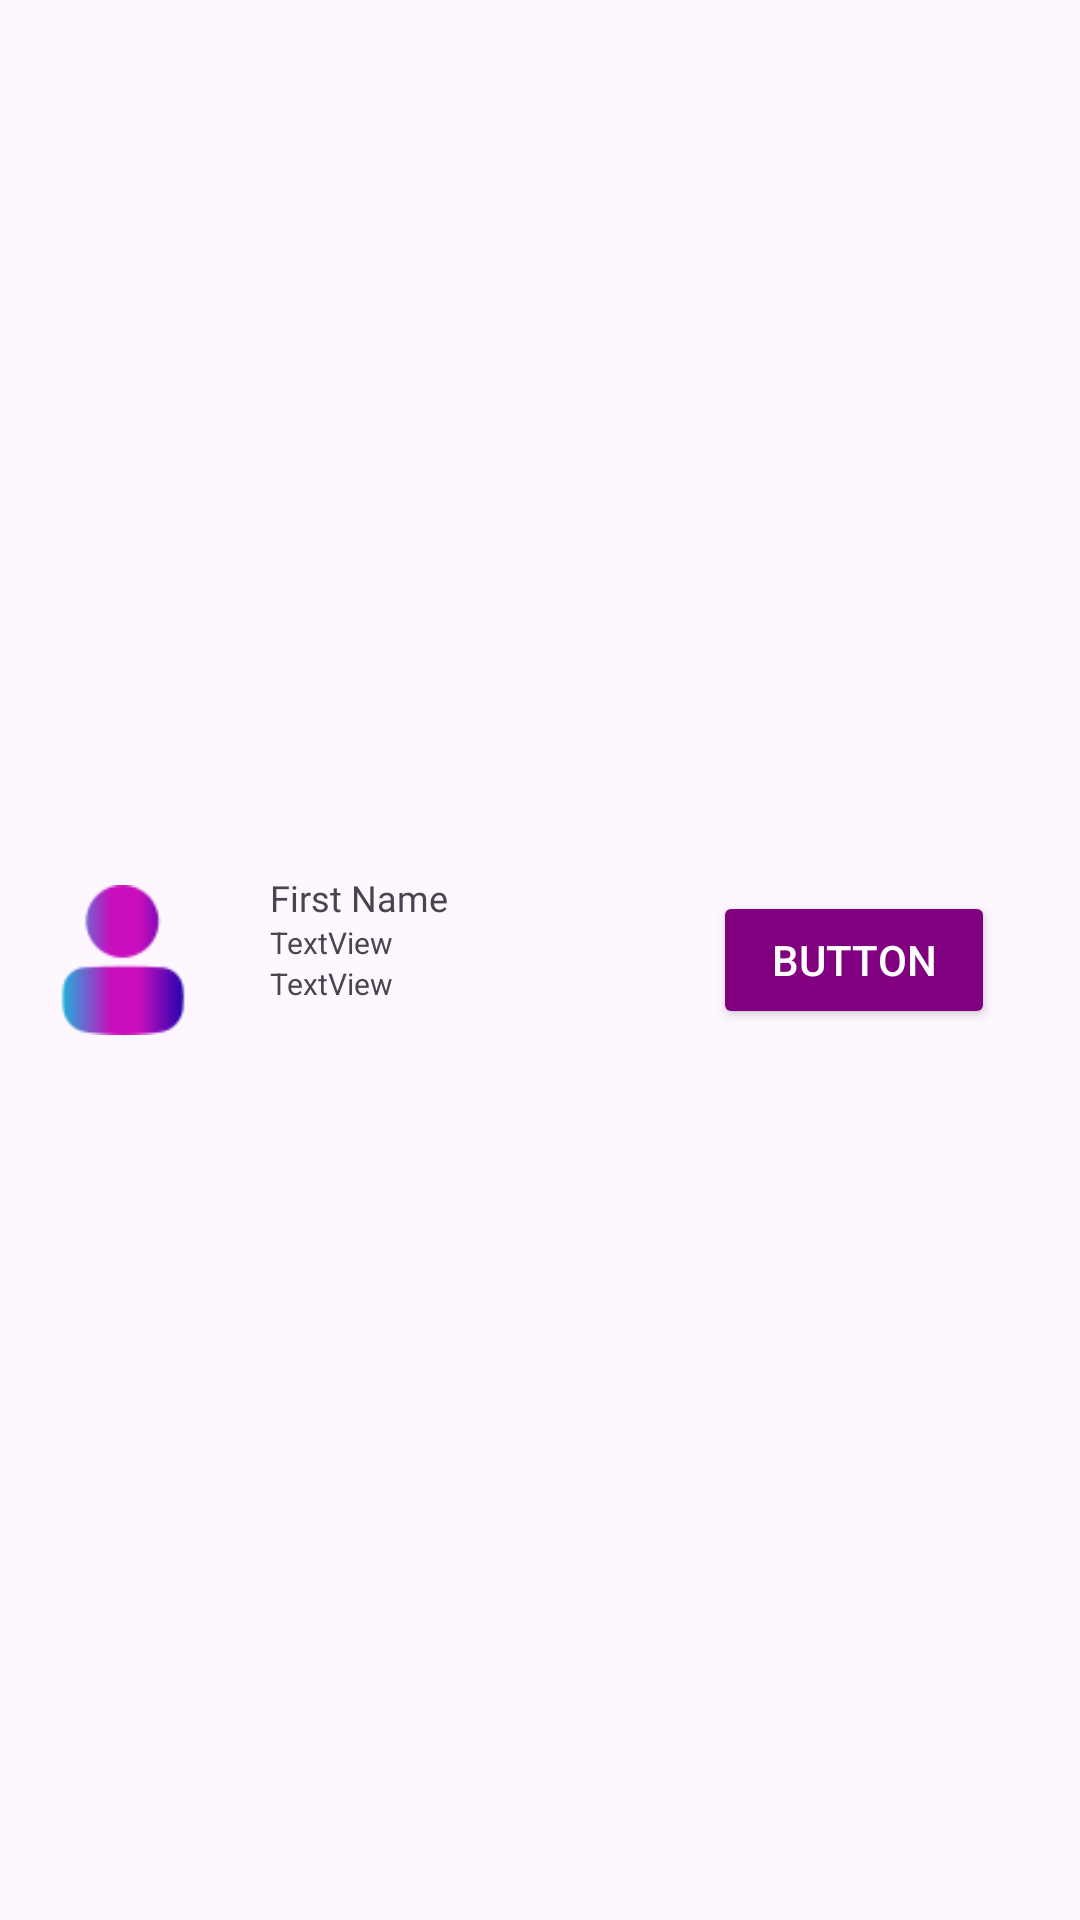

Screen size 1080×1920. Icon name, then its box in pixels as detection(x1, y1, x2, y2):
profile: detection(61, 885, 185, 1035)
